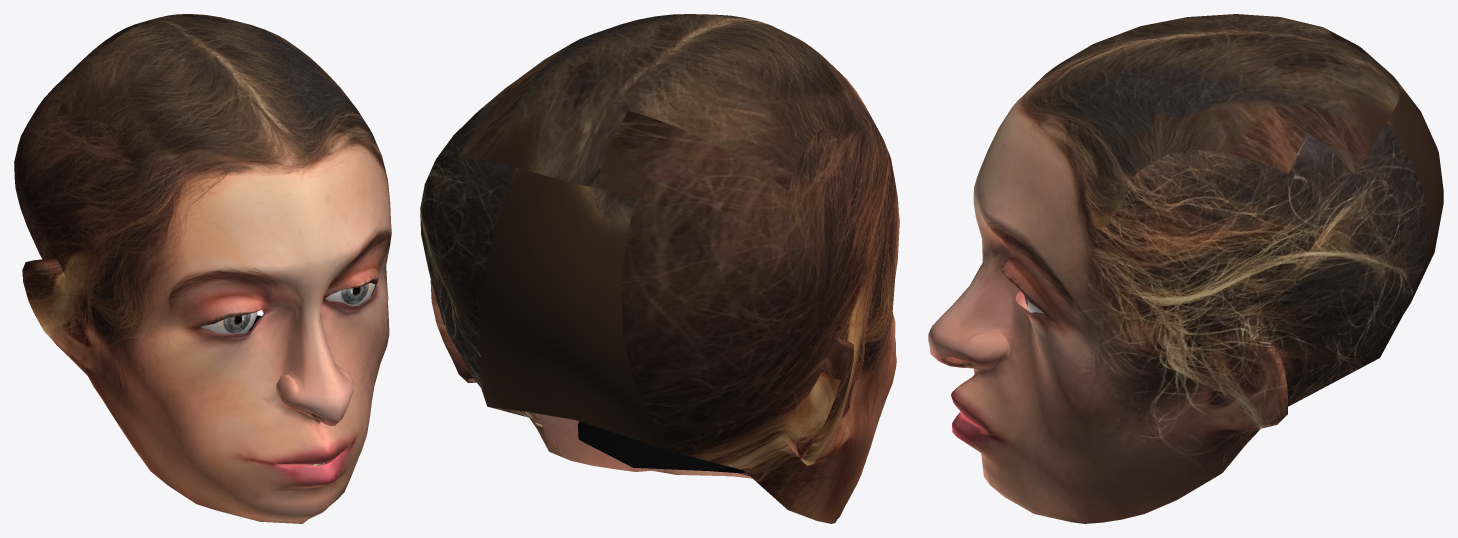
File: eryka.fbx
3 views of the same model, side by side, from view 1: azimuth 30°, elevation 25°; view 2: azimuth 150°, elevation 25°; view 3: azimuth 270°, elevation 25° (orthographic). The views are drawn at different scales.
Visible parts, largest first — view 1: face, leftEye, rightEye; view 2: face, teeth_top; view 3: face.
Part boxes in pixels (left/top/right/bottom): face: left=14, top=14, right=391, bottom=523; leftEye: left=200, top=311, right=257, bottom=333; rightEye: left=325, top=283, right=375, bottom=306; face: left=420, top=14, right=899, bottom=523; teeth_top: left=578, top=421, right=731, bottom=470; face: left=928, top=14, right=1443, bottom=523.
Size of the model in its own units: 14.77 by 17.91 by 18.03.
